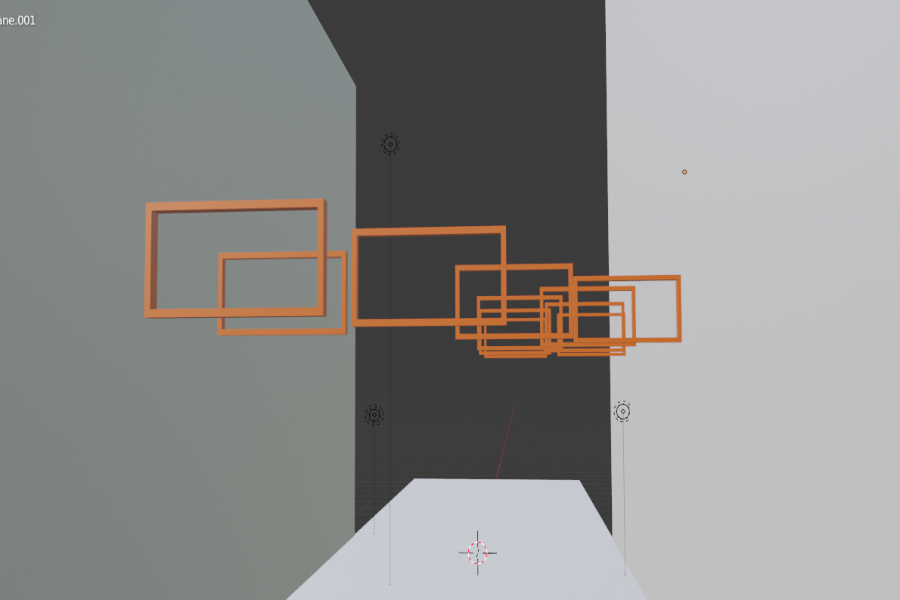GATE: (142, 204, 325, 320), (353, 226, 506, 324), (214, 250, 348, 334)
